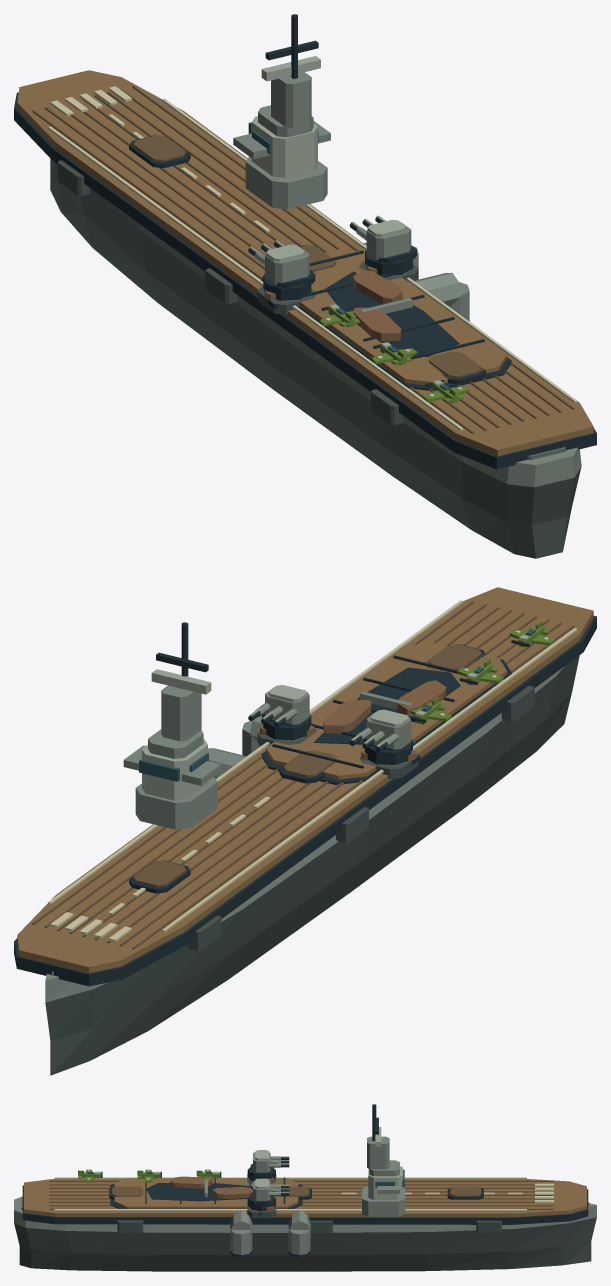
Rendered from historic-shokaku.glb.
3 renders of one model, top to bottom at view 1: azimuth 30°, elevation 25°; view 2: azimuth 150°, elevation 25°; view 3: azimuth 270°, elevation 25°, orthographic. The views are drawn at different scales.
Visible parts, largest first — view 1: historic-shokaku-historic-shokaku-geometry, historic-shokaku-part_bridge.025-geometry, historic-shokaku-part_flight-deck.007-geometry, historic-shokaku-ruin_flight-deck.006-geometry, historic-shokaku-turret_aa_aa-port.027-geometry, historic-shokaku-turret_aa_aa-starboard.025-geometry, historic-shokaku-aircraft_lift_0.007-geometry, historic-shokaku-historic_funnel_1.012-geometry, historic-shokaku-aircraft_lift_2.006-geometry; view 2: historic-shokaku-historic-shokaku-geometry, historic-shokaku-part_bridge.025-geometry, historic-shokaku-part_flight-deck.007-geometry, historic-shokaku-ruin_flight-deck.006-geometry, historic-shokaku-turret_aa_aa-port.027-geometry, historic-shokaku-turret_aa_aa-starboard.025-geometry, historic-shokaku-aircraft_lift_0.007-geometry, historic-shokaku-aircraft_lift_1.007-geometry, historic-shokaku-aircraft_lift_2.006-geometry, historic-shokaku-parked_aircraft_1.007-geometry, historic-shokaku-parked_aircraft_0.007-geometry; view 3: historic-shokaku-historic-shokaku-geometry, historic-shokaku-part_bridge.025-geometry, historic-shokaku-part_flight-deck.007-geometry, historic-shokaku-ruin_flight-deck.006-geometry, historic-shokaku-historic_funnel_0.026-geometry, historic-shokaku-historic_funnel_1.012-geometry, historic-shokaku-turret_aa_aa-starboard.025-geometry, historic-shokaku-turret_aa_aa-port.027-geometry, historic-shokaku-aircraft_lift_0.007-geometry, historic-shokaku-aircraft_lift_2.006-geometry, historic-shokaku-aircraft_lift_1.007-geometry, historic-shokaku-part_aa-starboard.025-geometry (+1 smaller).
Part boxes in pixels (x1,y1,x2,y2): historic-shokaku-historic-shokaku-geometry: (14,70,596,558); historic-shokaku-part_bridge.025-geometry: (233,14,330,209); historic-shokaku-part_flight-deck.007-geometry: (261,249,511,390); historic-shokaku-ruin_flight-deck.006-geometry: (325,269,459,356); historic-shokaku-turret_aa_aa-port.027-geometry: (248,240,315,300); historic-shokaku-turret_aa_aa-starboard.025-geometry: (349,215,416,275); historic-shokaku-aircraft_lift_0.007-geometry: (129,135,190,168); historic-shokaku-historic_funnel_1.012-geometry: (414,272,469,321); historic-shokaku-aircraft_lift_2.006-geometry: (428,351,485,384); historic-shokaku-historic-shokaku-geometry: (14,587,596,1075); historic-shokaku-part_bridge.025-geometry: (123,622,221,829); historic-shokaku-part_flight-deck.007-geometry: (261,642,511,784); historic-shokaku-ruin_flight-deck.006-geometry: (314,667,460,744); historic-shokaku-turret_aa_aa-port.027-geometry: (349,709,412,764); historic-shokaku-turret_aa_aa-starboard.025-geometry: (248,685,311,740); historic-shokaku-aircraft_lift_0.007-geometry: (129,860,190,893); historic-shokaku-aircraft_lift_1.007-geometry: (279,750,338,783); historic-shokaku-aircraft_lift_2.006-geometry: (426,644,485,672); historic-shokaku-parked_aircraft_1.007-geometry: (457,659,503,685); historic-shokaku-parked_aircraft_0.007-geometry: (509,621,555,647); historic-shokaku-historic-shokaku-geometry: (14,1177,596,1271); historic-shokaku-part_bridge.025-geometry: (362,1104,405,1216); historic-shokaku-part_flight-deck.007-geometry: (110,1177,302,1208); historic-shokaku-ruin_flight-deck.006-geometry: (146,1176,252,1201); historic-shokaku-historic_funnel_0.026-geometry: (288,1210,310,1257); historic-shokaku-historic_funnel_1.012-geometry: (230,1210,252,1257); historic-shokaku-turret_aa_aa-starboard.025-geometry: (247,1178,289,1211); historic-shokaku-turret_aa_aa-port.027-geometry: (247,1150,289,1181); historic-shokaku-aircraft_lift_0.007-geometry: (447,1186,483,1199); historic-shokaku-aircraft_lift_2.006-geometry: (109,1186,142,1199); historic-shokaku-aircraft_lift_1.007-geometry: (281,1186,311,1199); historic-shokaku-part_aa-starboard.025-geometry: (247,1202,276,1217).
Size of the model in its own units: 1.25 by 1.92 by 5.89.
